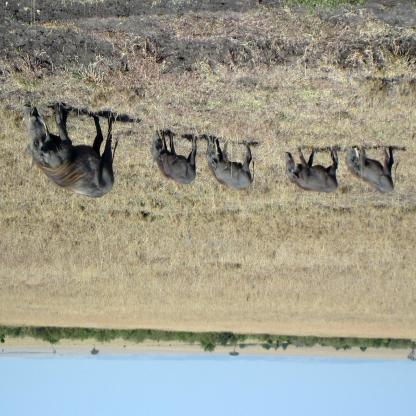boar: (22, 103, 118, 199), (344, 144, 399, 195), (283, 145, 339, 194), (207, 135, 255, 192), (148, 131, 197, 186)
